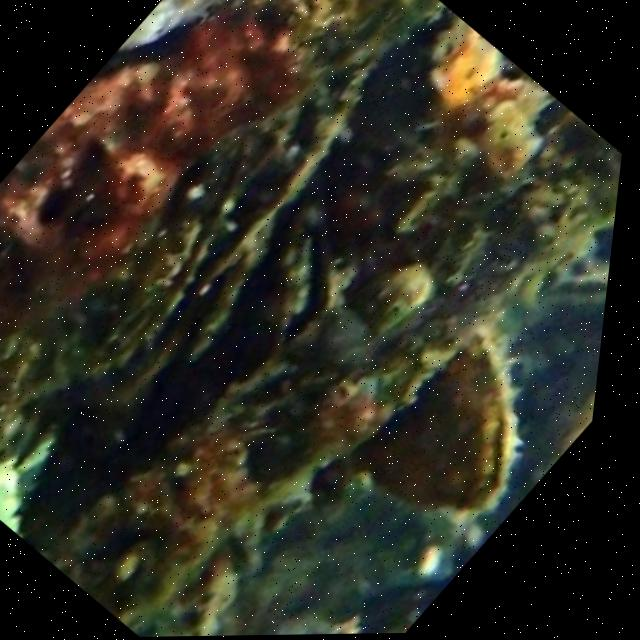Oyster-Closed: (8, 123, 249, 416), (344, 345, 517, 516)
Oyster-Open: (235, 188, 335, 391)
